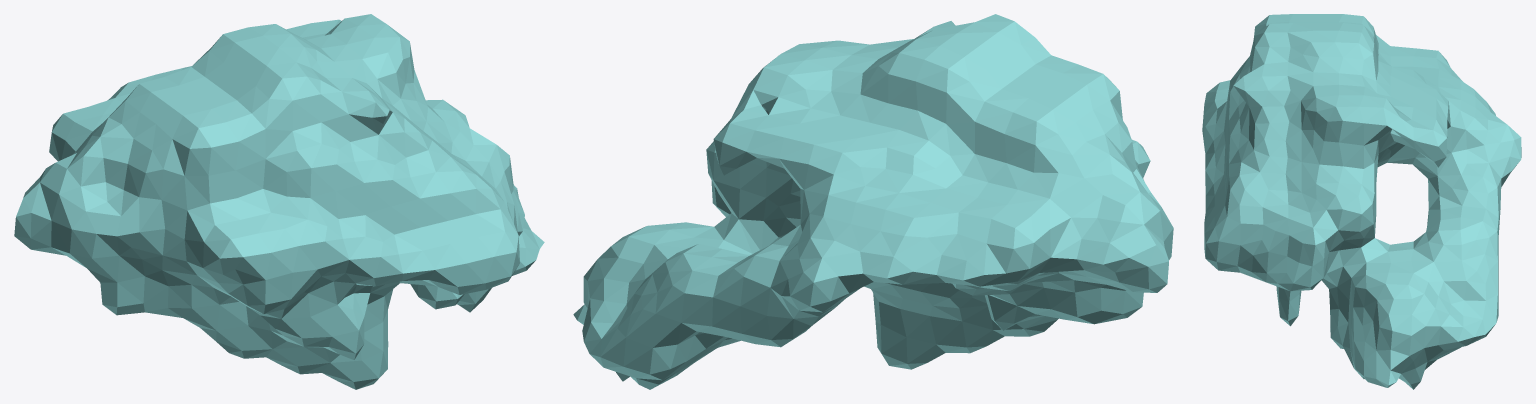
File: aseg_054_Right-Amygdala.glb
The picture shows the model from 3 angles, left to right: view 1: azimuth 30°, elevation 25°; view 2: azimuth 150°, elevation 25°; view 3: azimuth 270°, elevation 25°; orthographic projection. The views are drawn at different scales.
Bounding box in the file's own units: 19.55 × 11.8 × 12.85.
